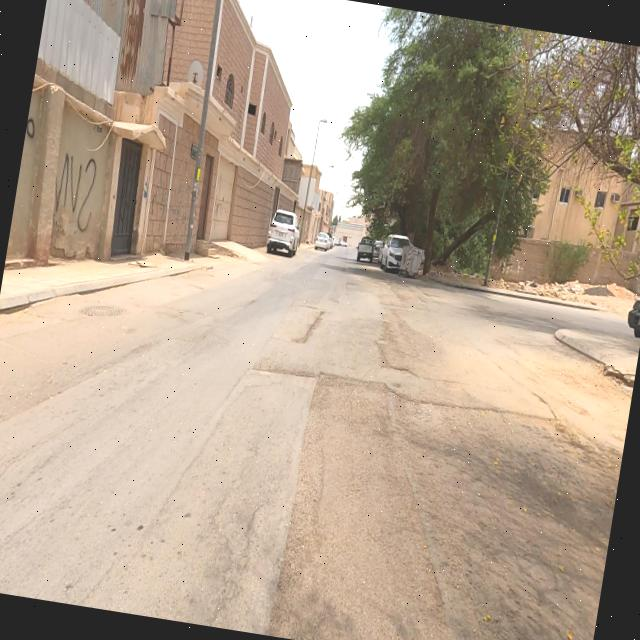Graffiti: (52, 153, 101, 234), (29, 117, 39, 138)
